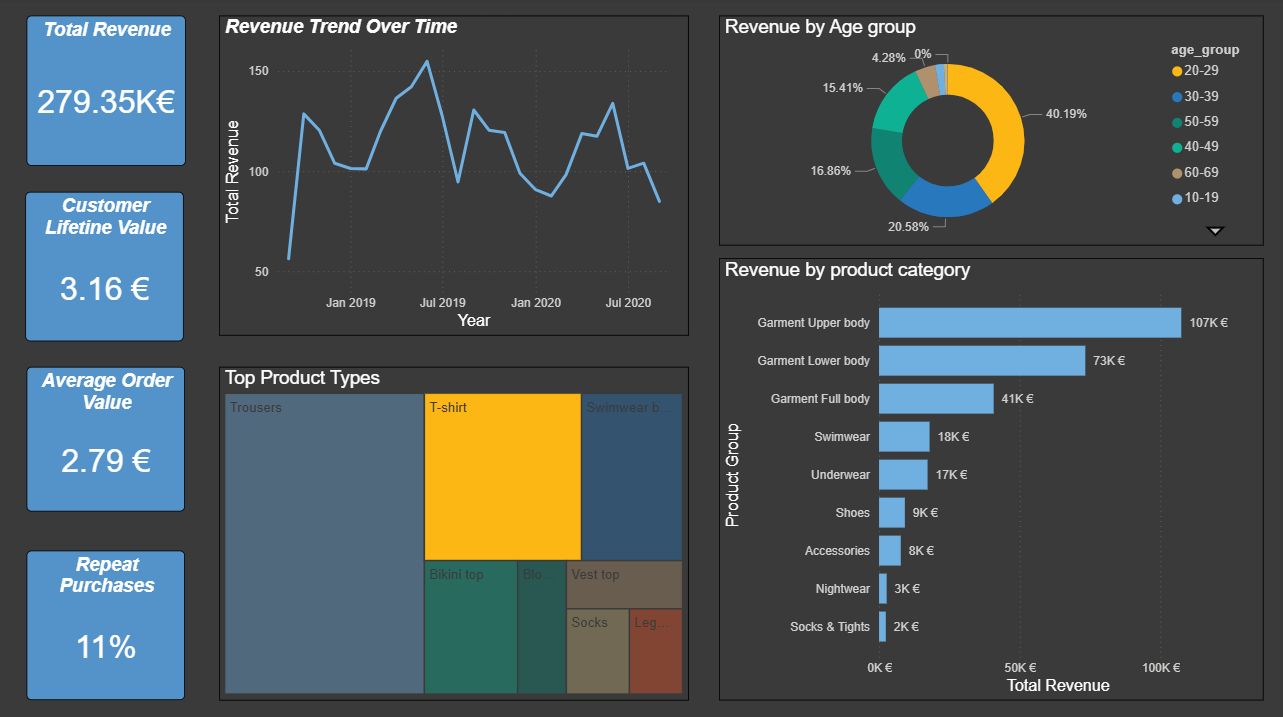

This screenshot's page, from the dashboard's own definition file:
{"tool":"powerbi","page":{"name":"Page 1","canvas":[1280,720],"ordinal":0},"visuals":[{"type":"card","title":"Total Revenue","fields":{"Values":["Measures_KPI.Total Revenue"]},"box":[27,17.2,158.3,149.7],"z":0},{"type":"card","title":"Average Order Value","fields":{"Values":["Measures_KPI.Average Order Value"]},"box":[27.3,367.2,157.9,144.2],"z":1000},{"type":"card","title":"Customer Lifetine Value","fields":{"Values":["Measures_KPI.Customer Lifetime Value"]},"box":[26.1,192.5,157.9,149.2],"z":2000},{"type":"card","title":"Repeat Purchases","fields":{"Values":["Measures_KPI.Repeat Purchase Rate"]},"box":[27.3,549.4,157.9,149.2],"z":3000},{"type":"lineChart","title":"Revenue Trend Over Time","fields":{"Y":["Sum(revenue_by_month.total_revenue)"],"Category":["revenue_by_month.month.Variation.Date Hierarchy.Year","revenue_by_month.month.Variation.Date Hierarchy.Quarter","revenue_by_month.month.Variation.Date Hierarchy.Month","revenue_by_month.month.Variation.Date Hierarchy.Day"]},"box":[218.8,17.4,467.4,318.2],"z":4000},{"type":"clusteredBarChart","title":"Revenue by product category","fields":{"Category":["revenue_by_product_group.product_group_name"],"Y":["Measures_KPI.Total Revenue"]},"box":[715.9,258.5,541.9,440],"z":5000},{"type":"donutChart","title":"Revenue by Age group","fields":{"Category":["sales_by_age_group.age_group"],"Y":["Sum(sales_by_age_group.revenue)"]},"box":[715.9,17.4,541.9,228.7],"z":5001},{"type":"treemap","title":"Top Product Types","fields":{"Group":["top_products.product_type_name","top_products.prod_name"],"Values":["Sum(top_products.total_purchases)"]},"box":[218.8,366.7,467.4,331.9],"z":5002}]}

Visuals, with their boxes in screenshot pixels (x1, y1, x2, y2), scaled from the page's 1280x720 canvas onto the 1283x717 screenshot:
"Total Revenue" card: box(27, 17, 186, 166)
"Average Order Value" card: box(27, 366, 186, 509)
"Customer Lifetine Value" card: box(26, 192, 184, 340)
"Repeat Purchases" card: box(27, 547, 186, 696)
"Revenue Trend Over Time" lineChart: box(219, 17, 688, 334)
"Revenue by product category" clusteredBarChart: box(718, 257, 1261, 696)
"Revenue by Age group" donutChart: box(718, 17, 1261, 245)
"Top Product Types" treemap: box(219, 365, 688, 696)
